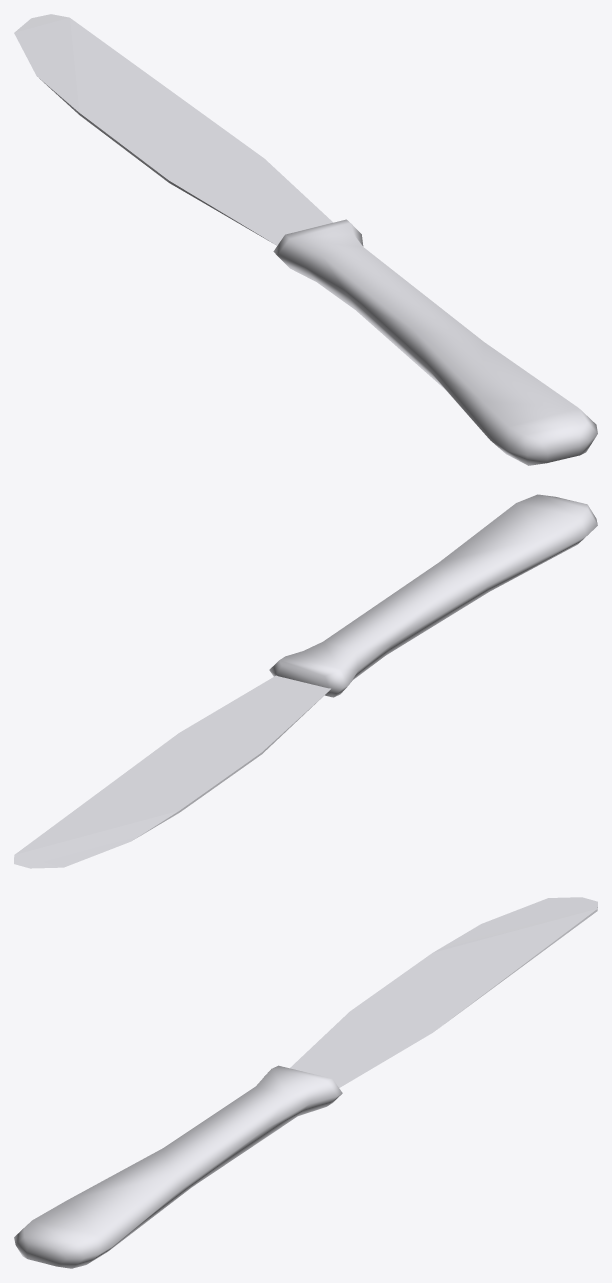
Rendered from Dining_Knife.fbx.
3 views of the same model, one above another, from view 1: azimuth 30°, elevation 25°; view 2: azimuth 150°, elevation 25°; view 3: azimuth 330°, elevation 25° (orthographic). The views are drawn at different scales.
Parts seen in each view (by area): view 1: Dining_Knife; view 2: Dining_Knife; view 3: Dining_Knife.
Boxes of the visible parts, left/top/right/bottom form: Dining_Knife: left=14, top=14, right=597, bottom=465; Dining_Knife: left=14, top=494, right=597, bottom=868; Dining_Knife: left=14, top=897, right=597, bottom=1268.
Bounding box in the file's own units: 2.39 × 0.5552 × 19.74.
